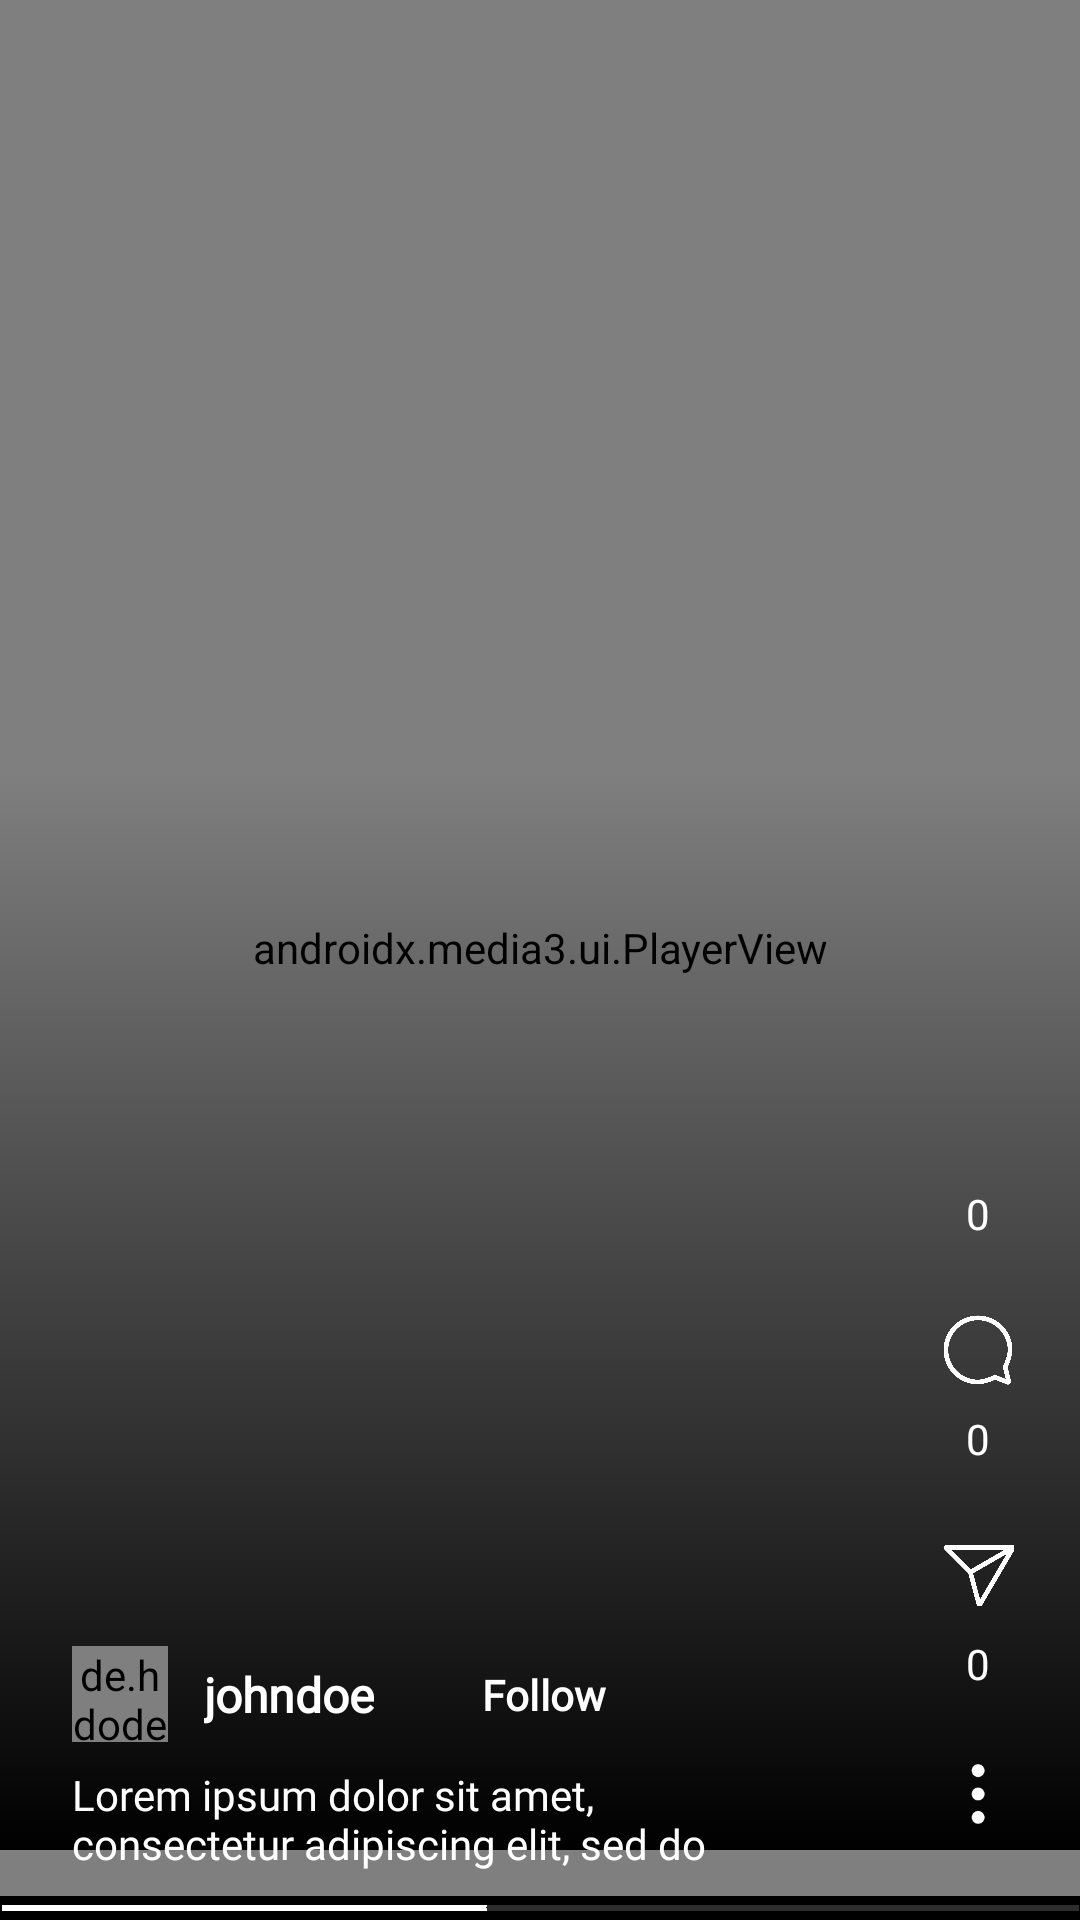

Icons on this 1080 × 1920 Android screen, each with its box as {"left": x1, "top": y1, "right": x2, "bottom": y2}:
chat: {"left": 944, "top": 1315, "right": 1012, "bottom": 1385}
more settings: {"left": 971, "top": 1764, "right": 985, "bottom": 1824}
send: {"left": 943, "top": 1545, "right": 1014, "bottom": 1606}
